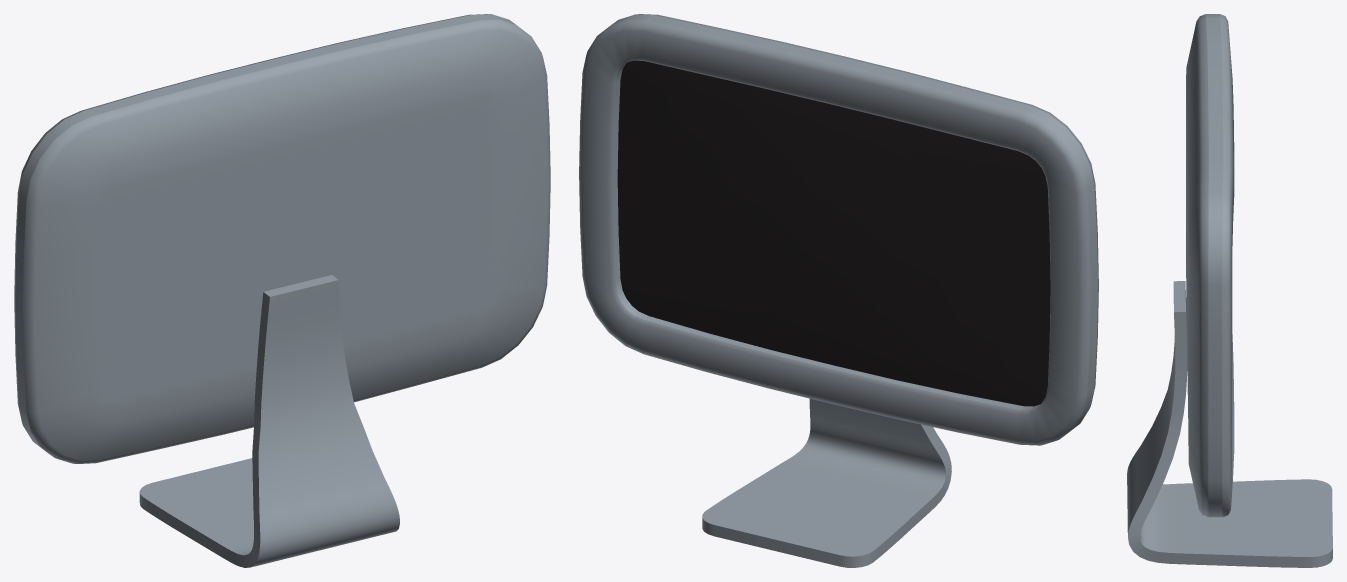
Rendered from Computer.fbx.
The picture shows the model from 3 angles, left to right: view 1: azimuth 30°, elevation 25°; view 2: azimuth 150°, elevation 25°; view 3: azimuth 270°, elevation 25°; orthographic projection. The views are drawn at different scales.
Parts seen in each view (by area): view 1: Computer; view 2: Computer; view 3: Computer.
Part boxes in pixels (left/top/right/bottom): Computer: left=14, top=14, right=550, bottom=567; Computer: left=579, top=14, right=1098, bottom=567; Computer: left=1127, top=14, right=1332, bottom=567.
Bounding box in the file's own units: 0.471 × 0.3948 × 0.1728.
